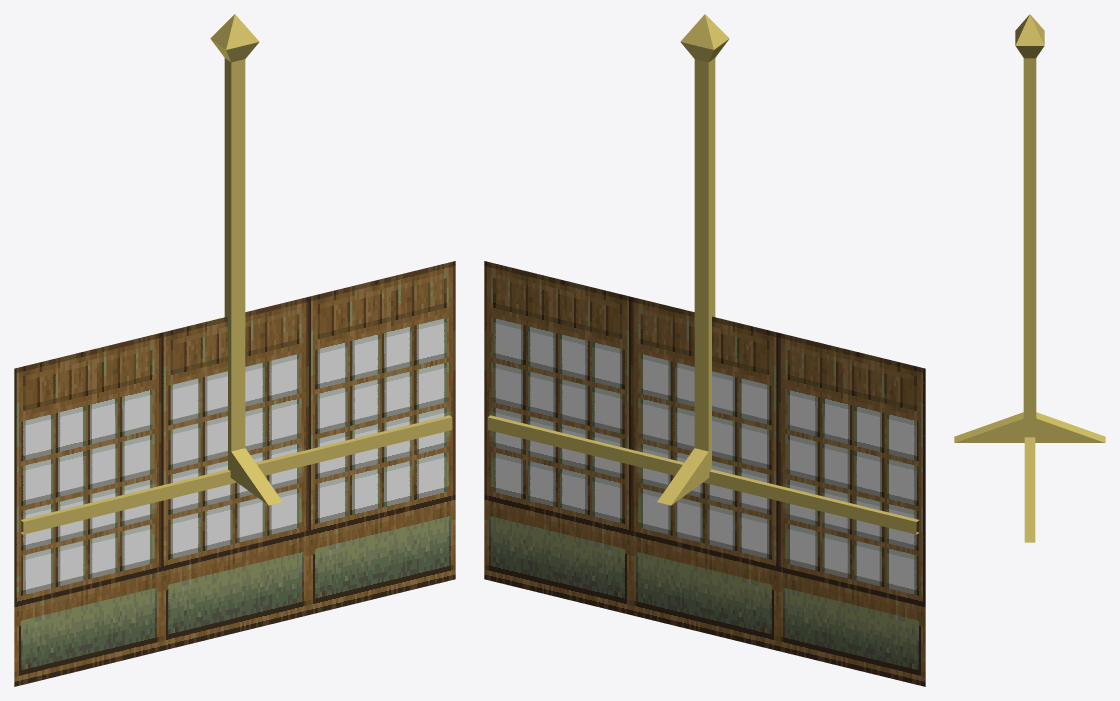
3 renders of one model, left to right at view 1: azimuth 30°, elevation 25°; view 2: azimuth 150°, elevation 25°; view 3: azimuth 270°, elevation 25°, orthographic. The views are drawn at different scales.
Visible parts, largest first — view 1: 4410wall_r; view 2: 4410wall_r; view 3: 4410wall_r.
Part boxes in pixels (x1=…): 4410wall_r: x1=14, y1=14, x2=455, y2=686; 4410wall_r: x1=484, y1=14, x2=925, y2=686; 4410wall_r: x1=954, y1=14, x2=1105, y2=542.
Size of the model in its own units: 1.83 by 2.45 by 0.5869.
2 materials, 1 textured.
